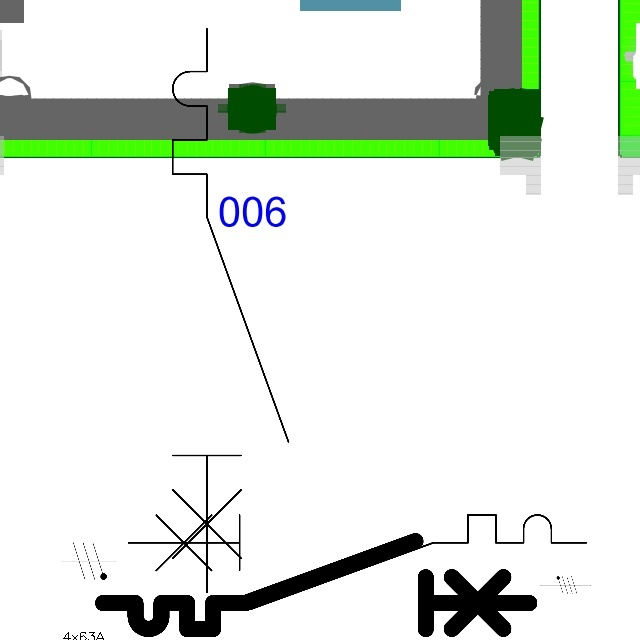interruptor_termomagnetico: (158, 14, 303, 607), (116, 503, 597, 621), (92, 530, 540, 640)
